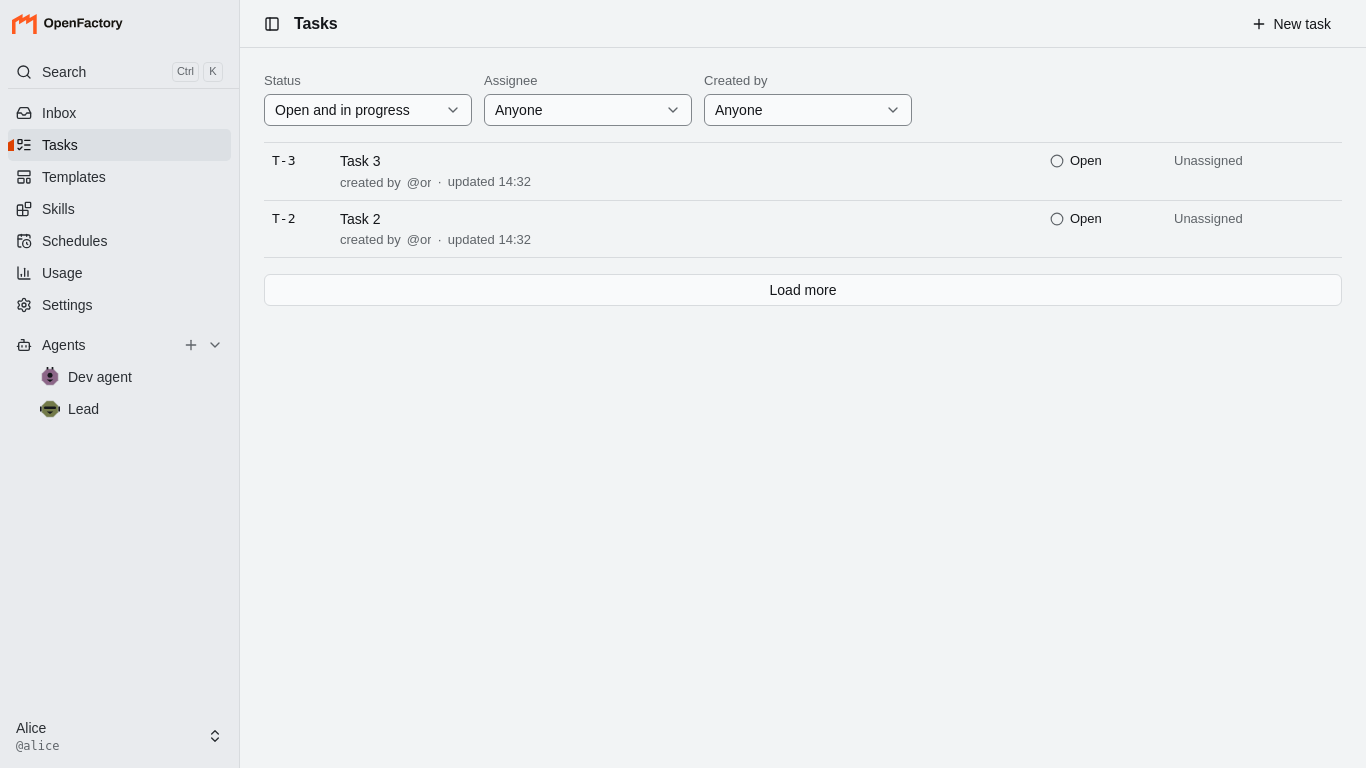
Test: load more pages by cursor; a failed page shows its line and Retry
This screenshot has width=1366, height=768.
Click the button "Load more" at (803, 290), box [264, 274, 1342, 306]
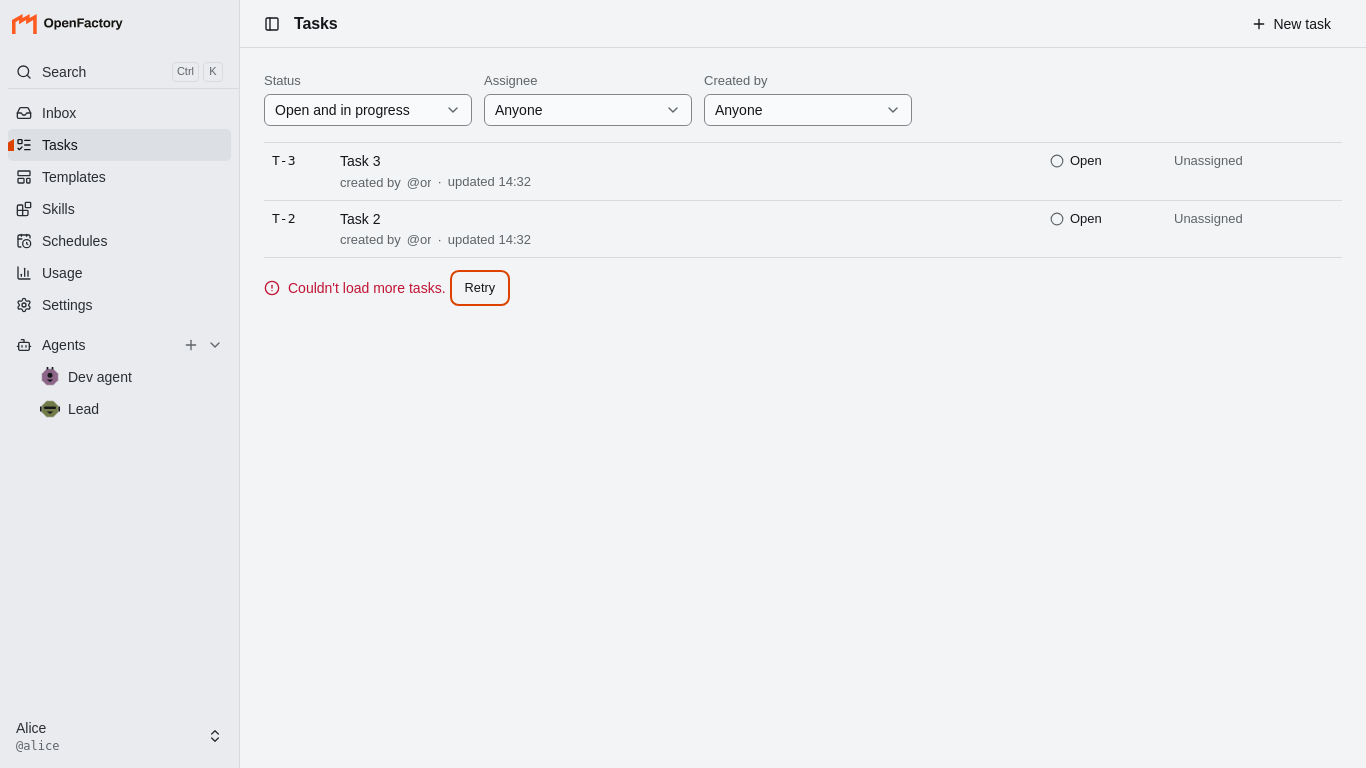
Expected: the text "Couldn't load more tasks." is shown, [288, 278, 446, 298]
Click the button "Retry" at (480, 288), box [454, 274, 506, 302]
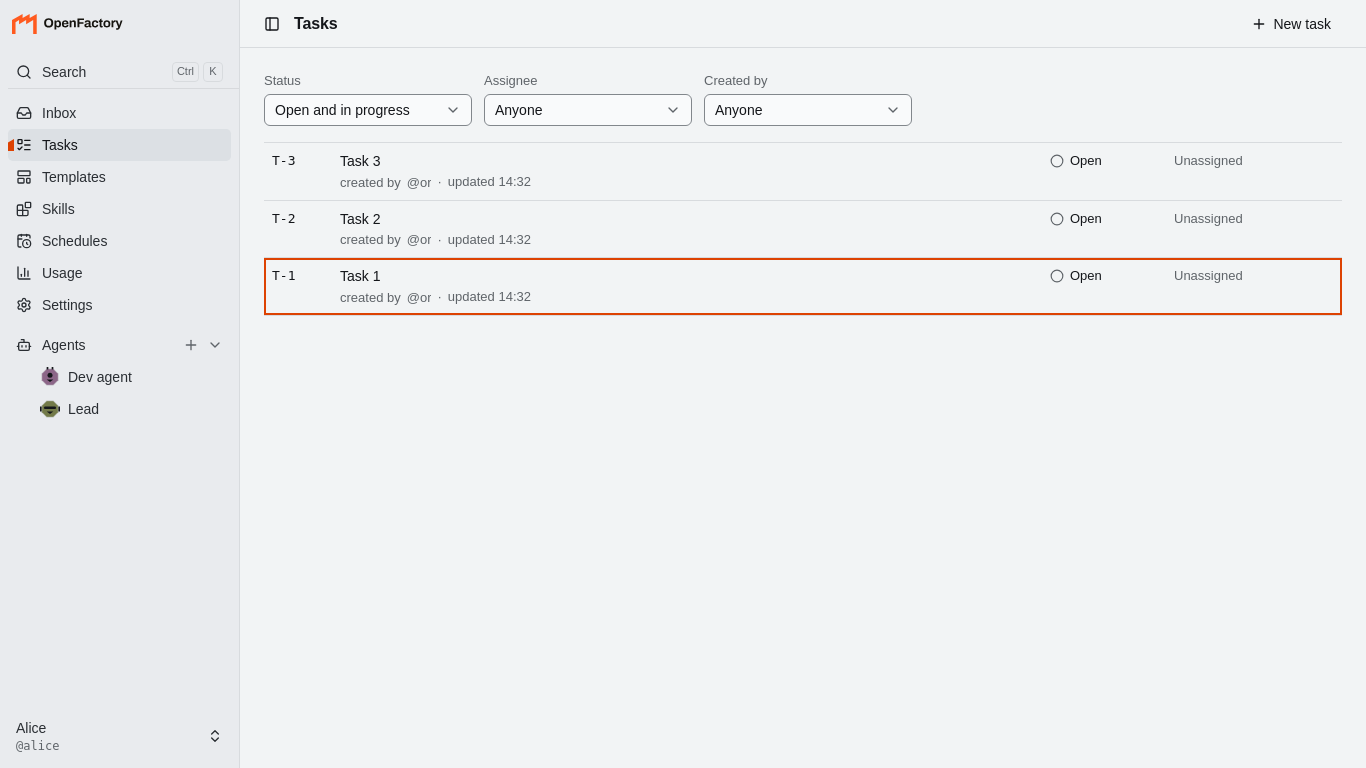
Expected: the link with aria-label "T-1," is shown, [272, 268, 380, 284]
Expected: the text "load more" is gone
